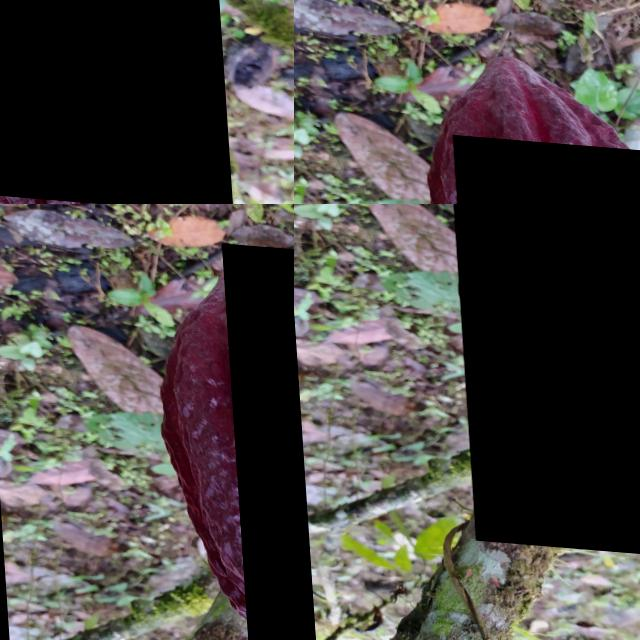Monilia: (0, 0, 226, 204), (220, 239, 294, 640)
Sana: (447, 204, 640, 556), (46, 513, 171, 640), (450, 131, 640, 204), (515, 0, 640, 64)
